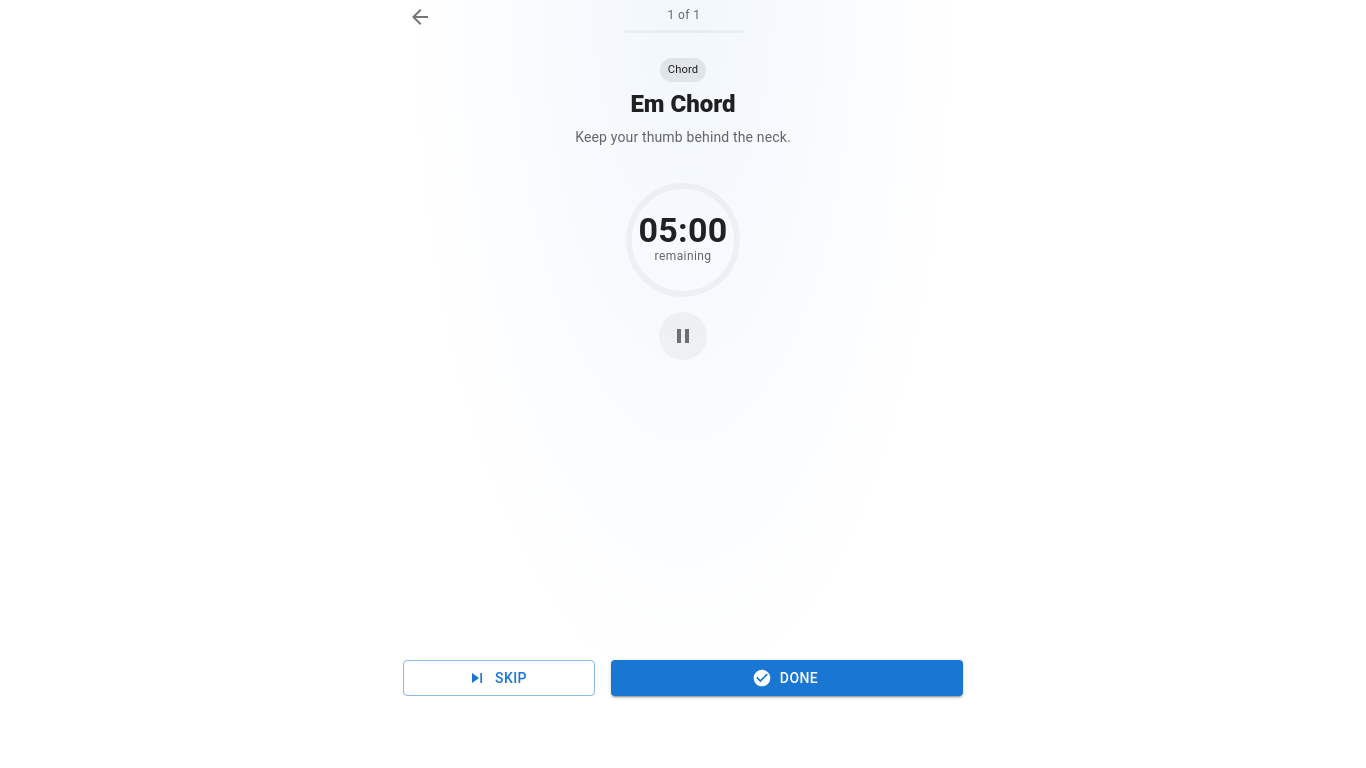
Test case: ActivePracticeMode › shows confidence overlay after Done is clicked
The width and height of the screenshot is (1366, 768).
Click the button "Done": (787, 678) x1=611 y1=660 x2=963 y2=696
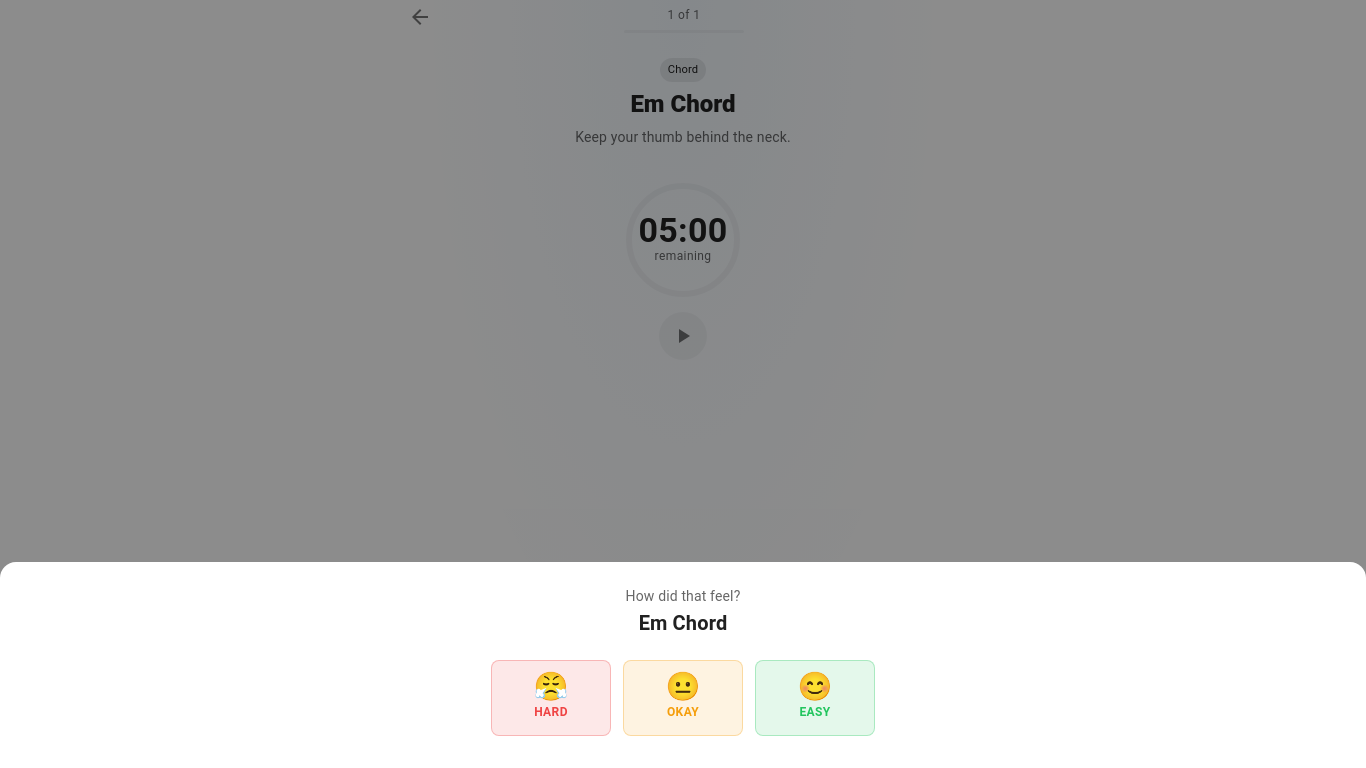
Now the text "How did that feel?" is shown, box x1=626 y1=588 x2=740 y2=604
